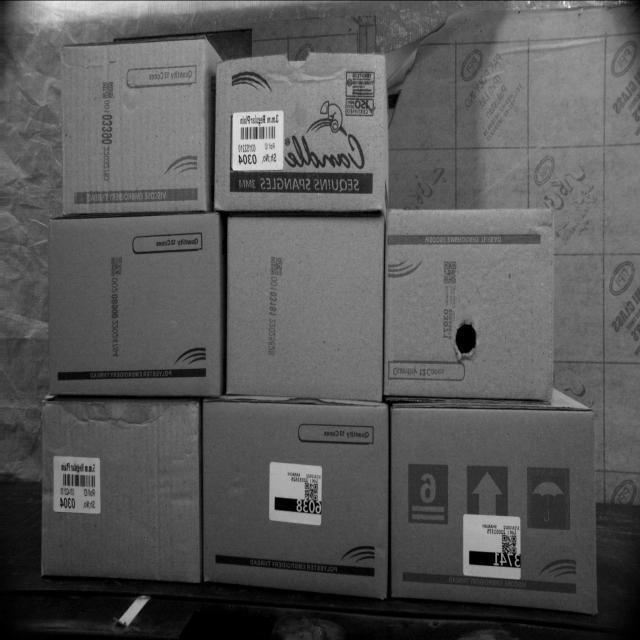cardboxes: (390, 404, 596, 608), (203, 399, 391, 596), (383, 206, 552, 401), (47, 210, 220, 398), (222, 214, 386, 398), (39, 402, 200, 580), (212, 52, 387, 214), (58, 38, 209, 215)
